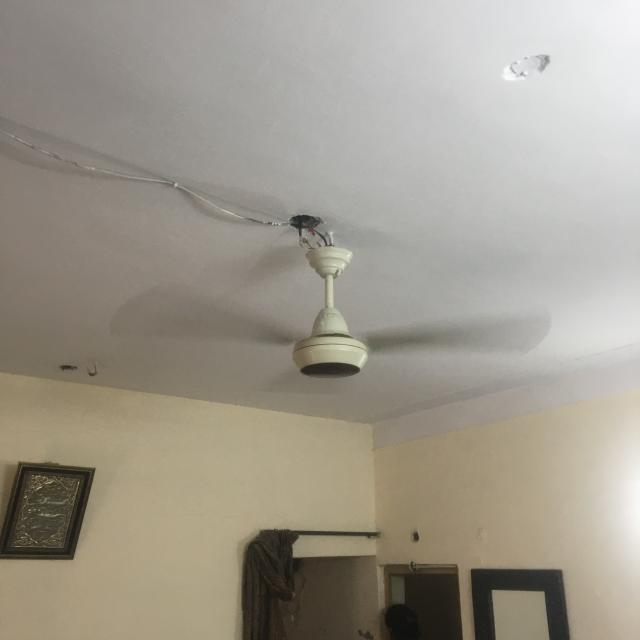on: (99, 273, 560, 408)
